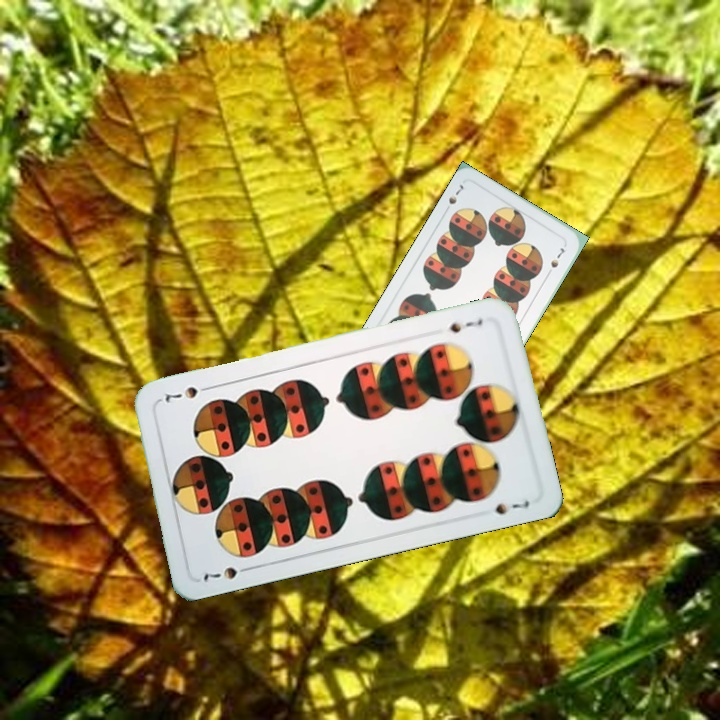S7: (199, 562, 255, 585), (440, 180, 466, 216), (446, 315, 485, 336)
